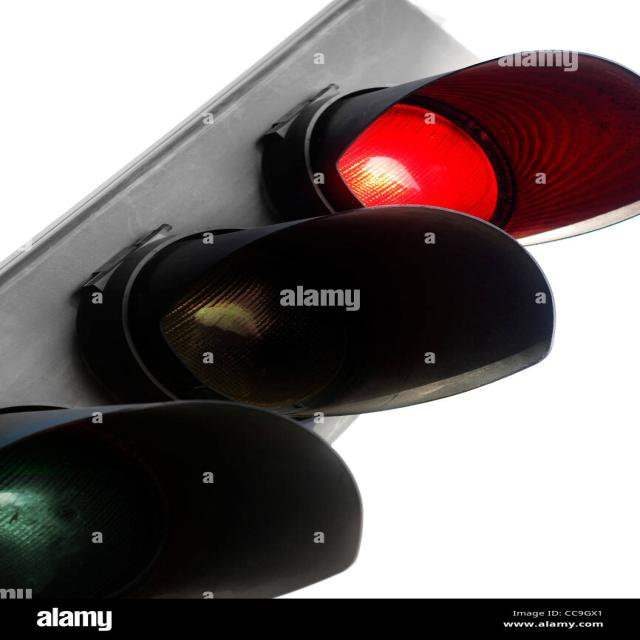red: (269, 68, 567, 233)
